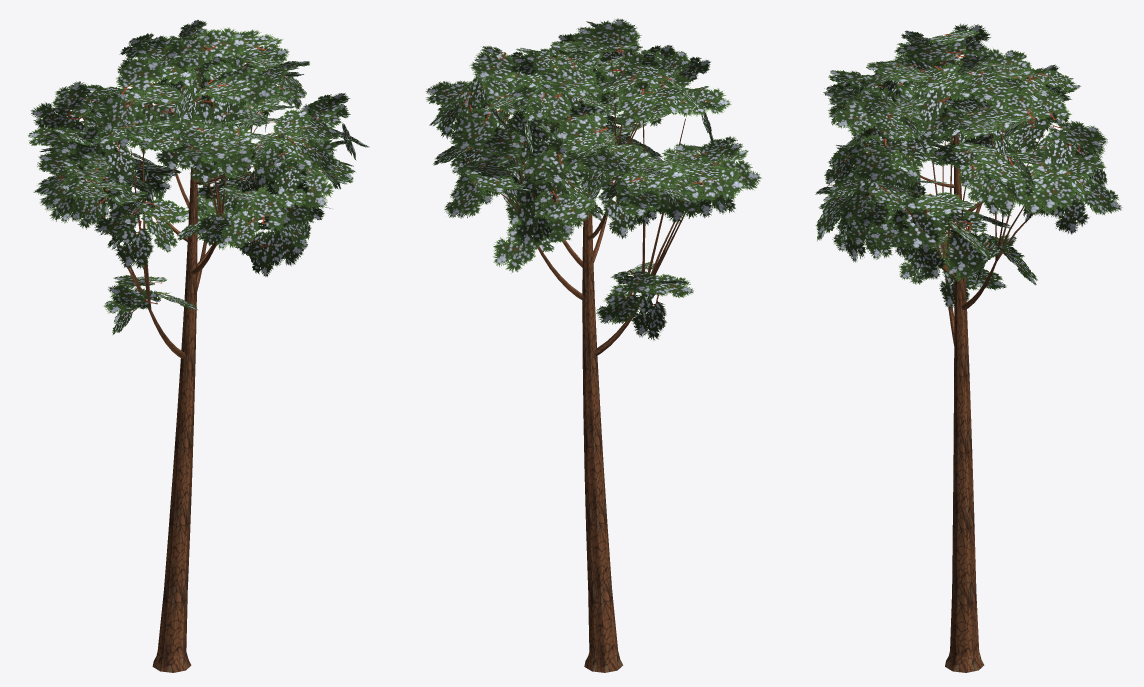
Rendered from w_pine2.glb.
The picture shows the model from 3 angles, left to right: view 1: azimuth 30°, elevation 25°; view 2: azimuth 150°, elevation 25°; view 3: azimuth 270°, elevation 25°; orthographic projection.
Visible parts, largest first — view 1: w_pine2; view 2: w_pine2; view 3: w_pine2.
Boxes of the visible parts, x1=… form: w_pine2: x1=28, y1=20, x2=369, y2=672; w_pine2: x1=425, y1=18, x2=762, y2=672; w_pine2: x1=815, y1=23, x2=1122, y2=672.
Bounding box in the file's own units: 11.36 × 19.62 × 9.24.
2 materials, 2 textured.
